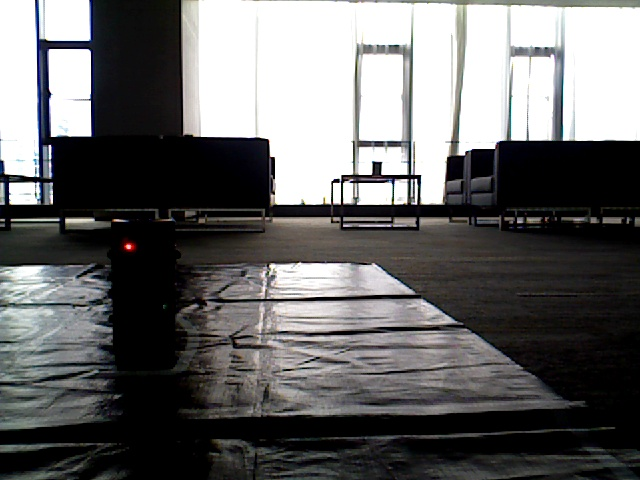red: (110, 223, 158, 321)
